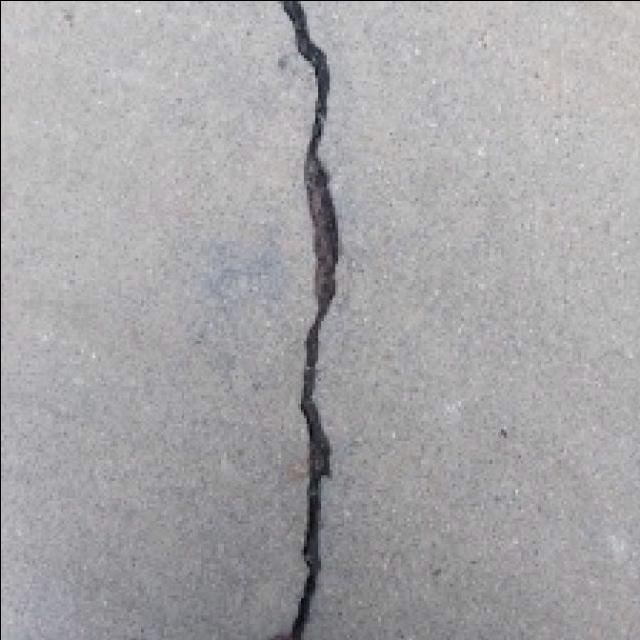SurfaceCrack: (244, 0, 360, 640)
